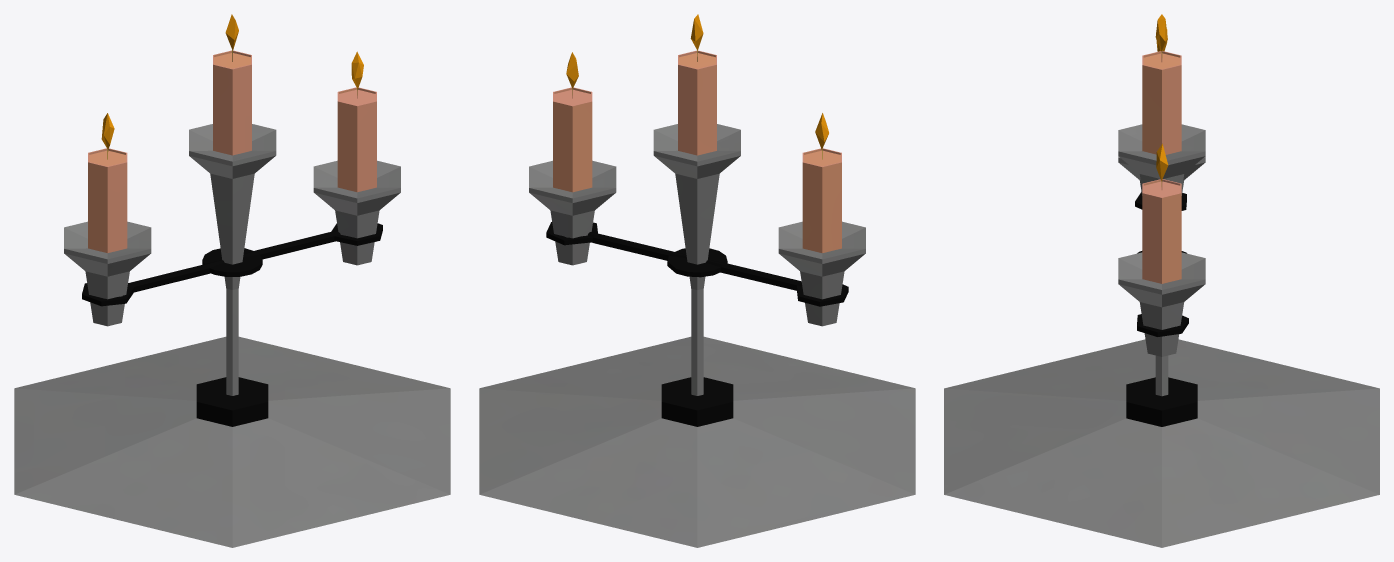
File: Candle_3.fbx
3 views of the same model, side by side, from view 1: azimuth 30°, elevation 25°; view 2: azimuth 150°, elevation 25°; view 3: azimuth 270°, elevation 25° (orthographic).
Visible parts, largest first — view 1: Candle 3; view 2: Candle 3; view 3: Candle 3.
Boxes of the visible parts, box(x1,y1,x2,y2) form: Candle 3: box(14, 14, 450, 547); Candle 3: box(479, 14, 915, 547); Candle 3: box(944, 14, 1379, 547).
Bounding box in the file's own units: 53.21 × 49.84 × 46.08.
